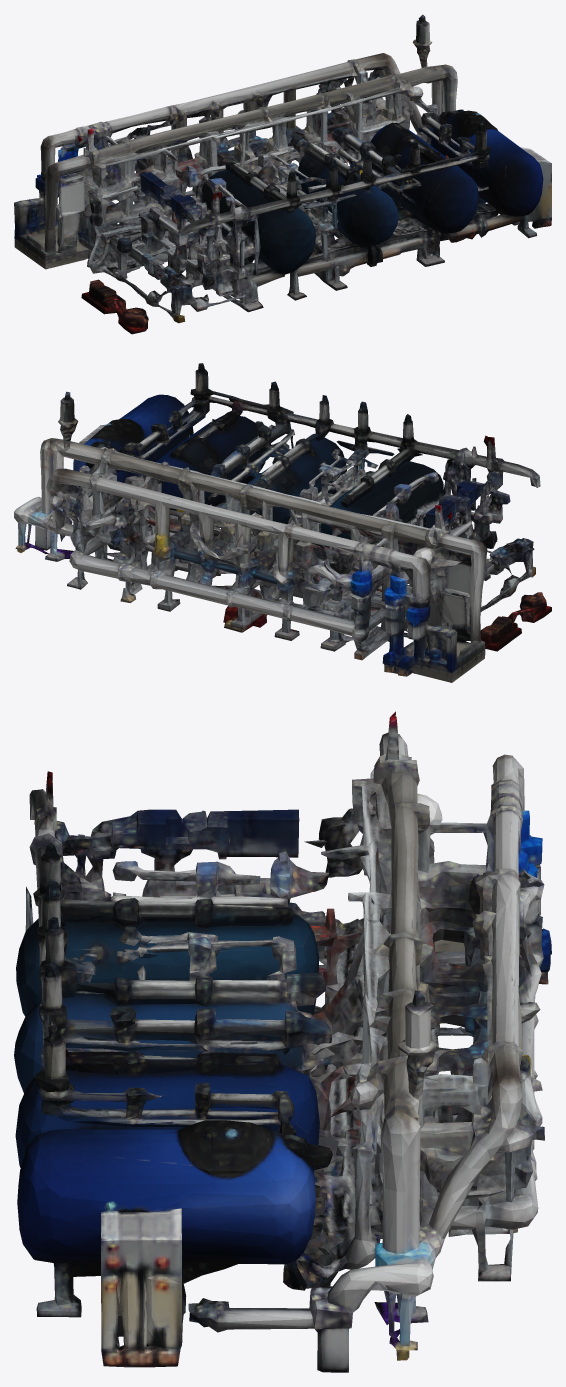
Rendered from Tank 3.glb.
3 renders of one model, top to bottom at view 1: azimuth 30°, elevation 25°; view 2: azimuth 150°, elevation 25°; view 3: azimuth 270°, elevation 25°, orthographic. The views are drawn at different scales.
Visible parts, largest first — view 1: world; view 2: world; view 3: world.
Boxes of the visible parts, <box> form: world: <box>14,14,551,334</box>; world: <box>14,363,551,682</box>; world: <box>14,711,551,1372</box>.
Size of the model in its own units: 0.999 by 0.39 by 0.5424.
Materials: 1 (1 with a texture image).
